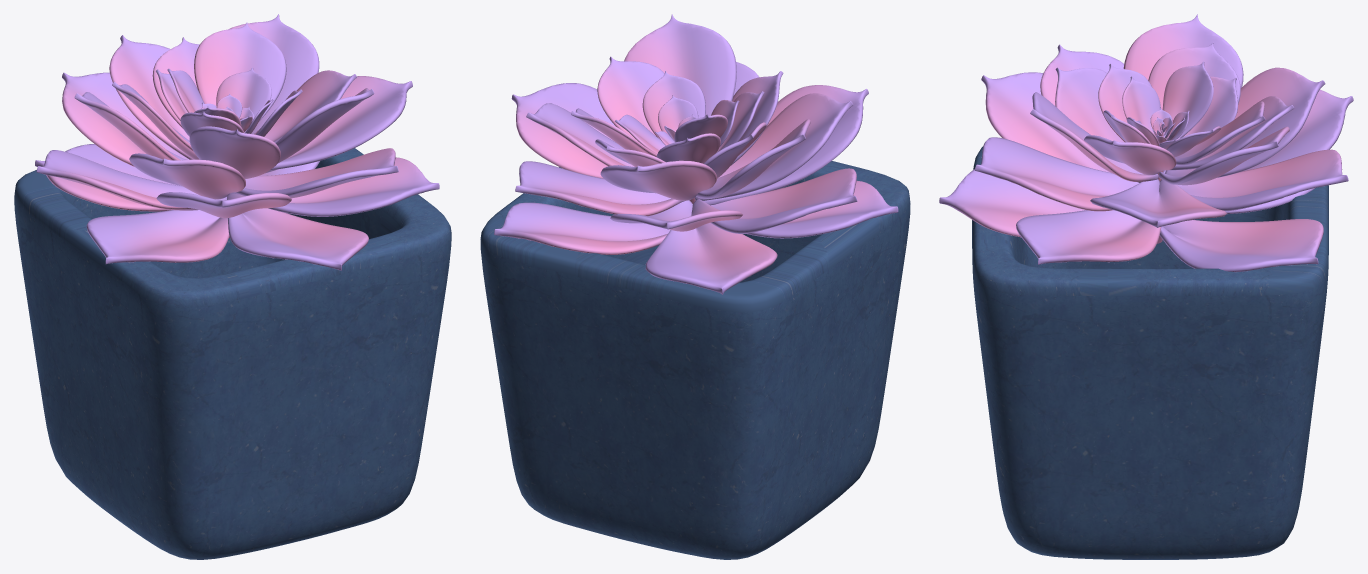
Rendered from PERLE_VON_NERNBERG_BLUE_CERAMIC_POT.glb.
The picture shows the model from 3 angles, left to right: view 1: azimuth 30°, elevation 25°; view 2: azimuth 150°, elevation 25°; view 3: azimuth 270°, elevation 25°; orthographic projection. The views are drawn at different scales.
Visible parts, largest first — view 1: pot01, Vase 2; view 2: pot01, Vase 2; view 3: pot01, Vase 2.
Boxes of the visible parts, left/top/right/bottom form: pot01: left=14, top=148, right=451, bottom=559; Vase 2: left=35, top=14, right=439, bottom=270; pot01: left=480, top=161, right=910, bottom=559; Vase 2: left=494, top=14, right=898, bottom=294; pot01: left=972, top=146, right=1328, bottom=559; Vase 2: left=939, top=14, right=1353, bottom=272.
Bounding box in the file's own units: 1.09 × 1.24 × 1.06.
Materials: 2 (2 with a texture image).
